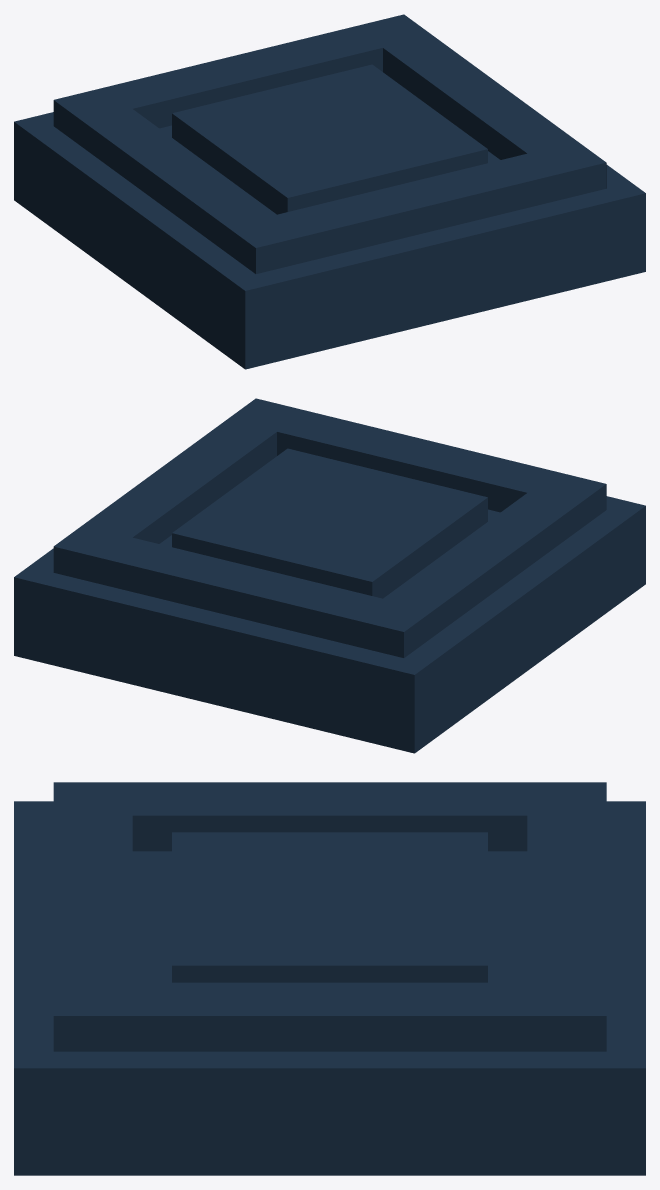
Rendered from man-v1-blue.gltf.
3 renders of one model, top to bottom at view 1: azimuth 30°, elevation 25°; view 2: azimuth 150°, elevation 25°; view 3: azimuth 270°, elevation 25°, orthographic. The views are drawn at different scales.
Visible parts, largest first — view 1: Untitled; view 2: Untitled; view 3: Untitled.
Boxes of the visible parts, box(x1,y1,x2,y2) form: Untitled: box(14, 14, 645, 369); Untitled: box(14, 398, 645, 753); Untitled: box(14, 782, 645, 1175).
Bounding box in the file's own units: 1.6 × 0.4 × 1.6.
1 material, 1 textured.
